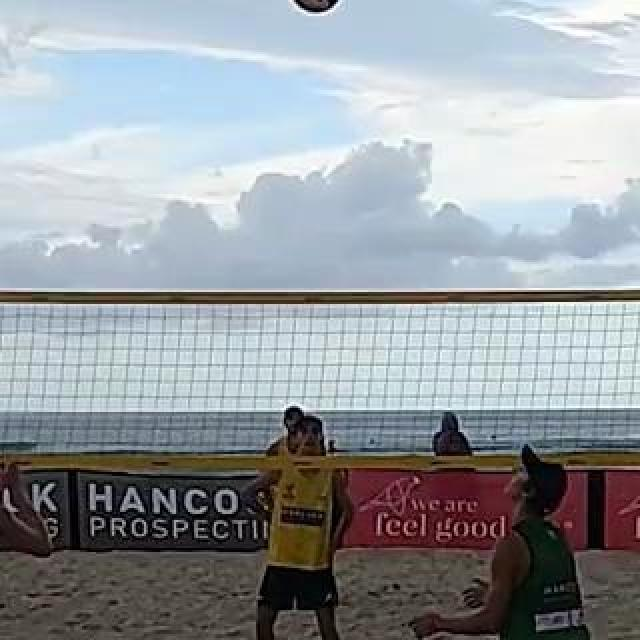volleyball: (288, 0, 344, 14)
